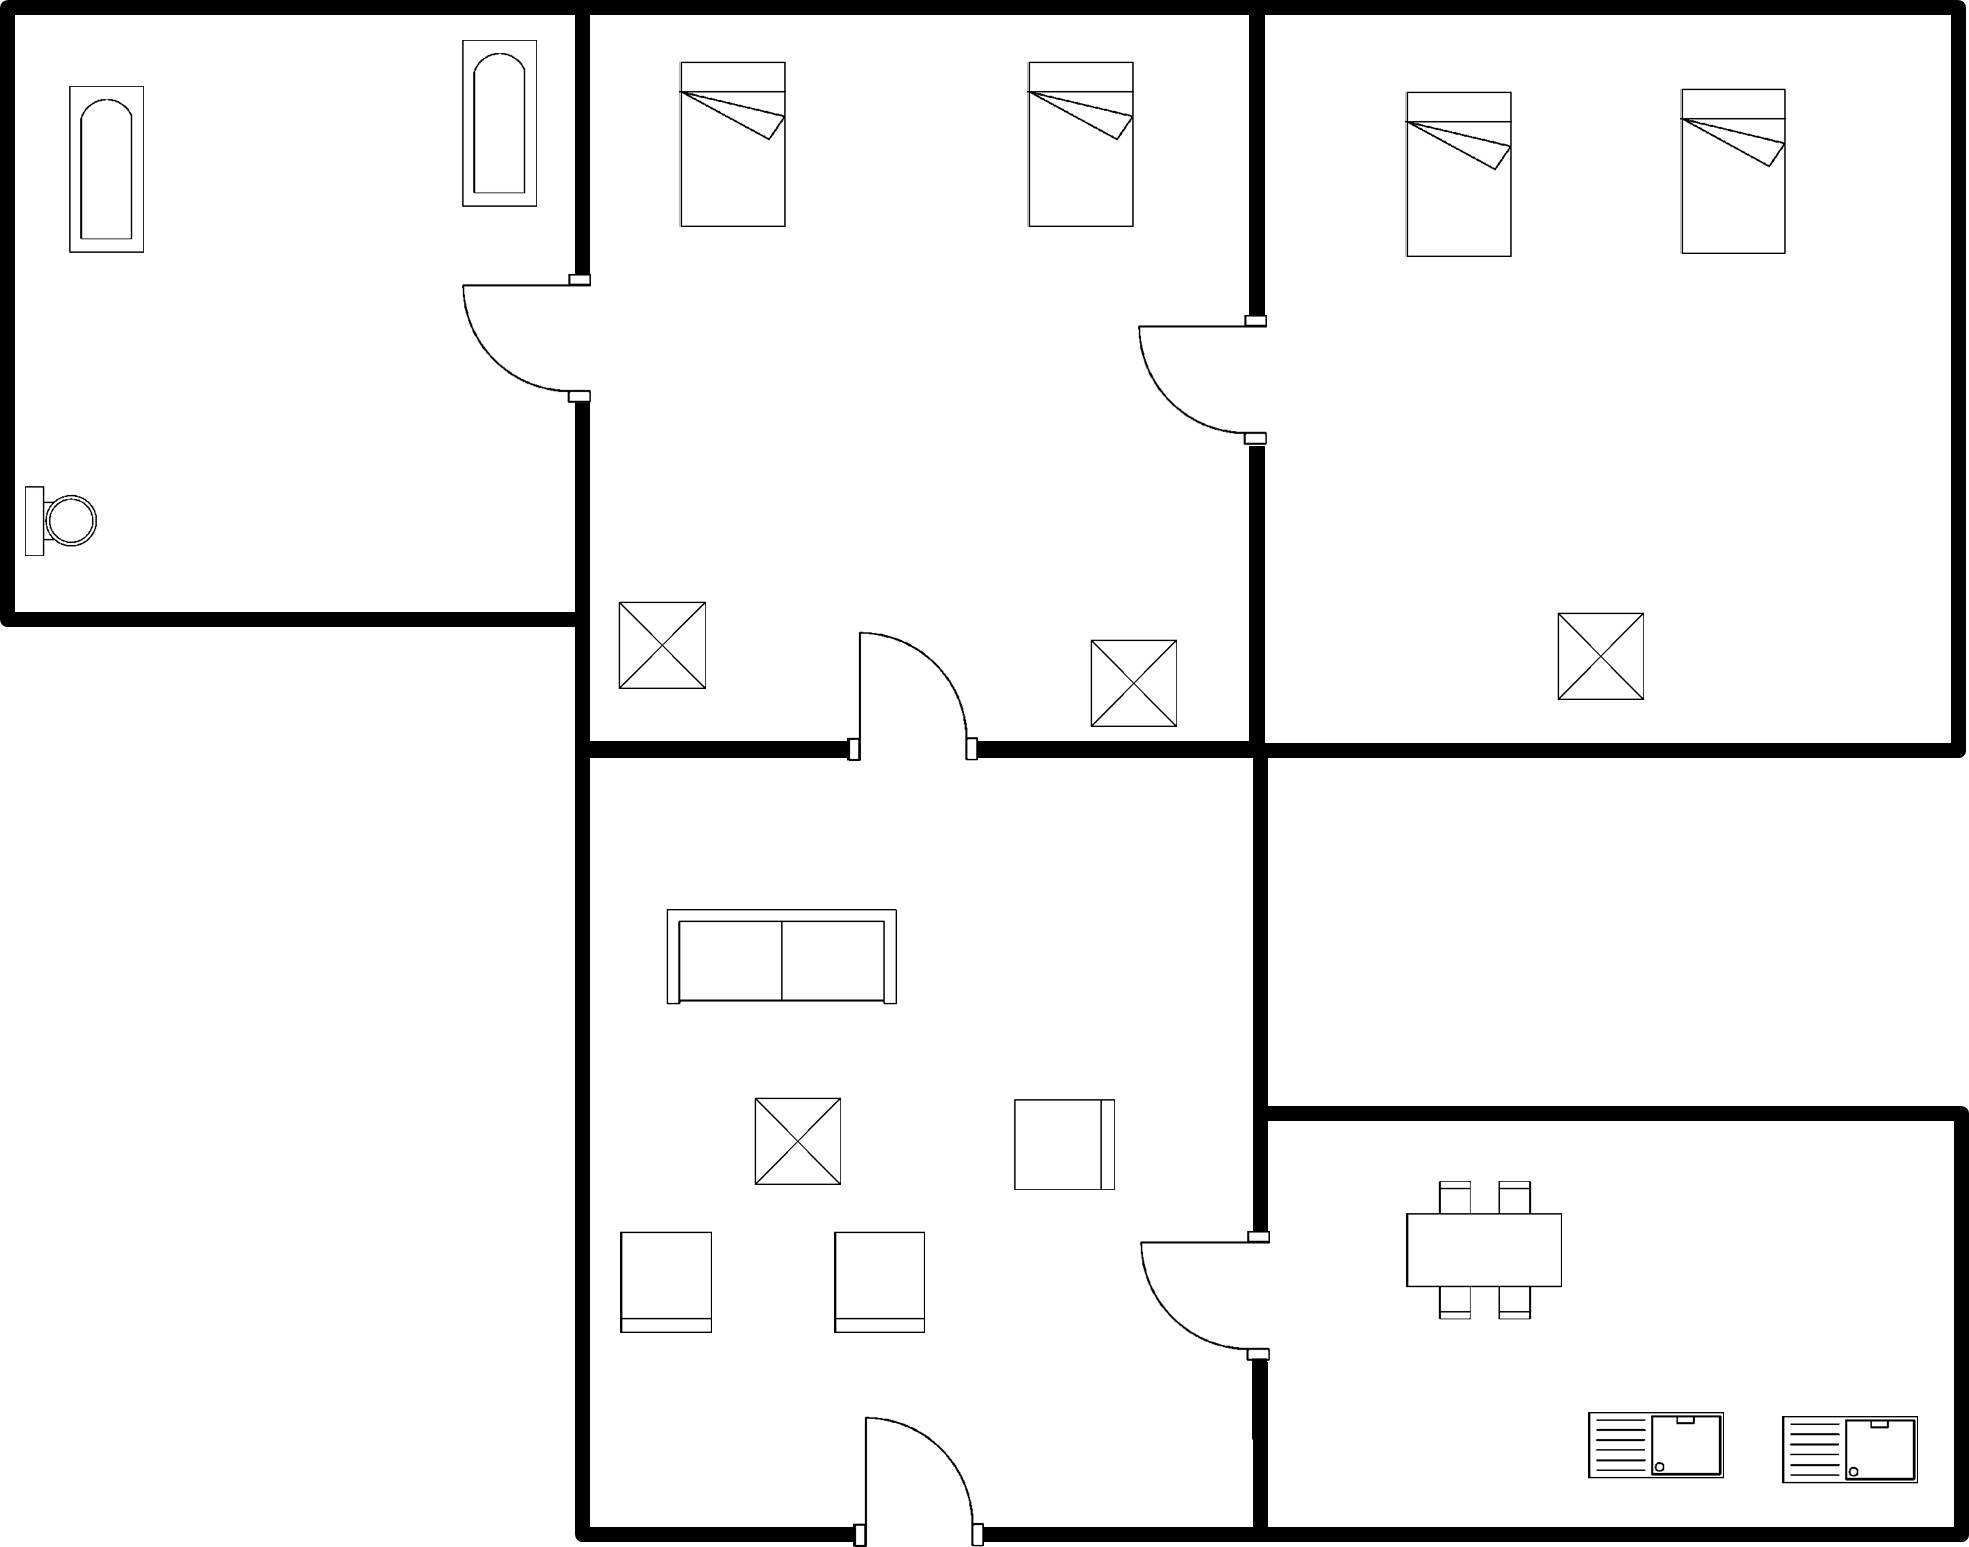bed: (667, 50, 802, 243), (1666, 77, 1800, 268), (1016, 50, 1149, 243), (1397, 79, 1525, 268)
coffee_table: (606, 589, 719, 703), (740, 1086, 853, 1199), (1543, 600, 1658, 708), (1078, 627, 1185, 736)
dining_table: (1393, 1168, 1579, 1332)
large_sink: (17, 476, 102, 567)
large_sofa: (652, 894, 909, 1018)
sink: (1576, 1400, 1737, 1496), (1772, 1403, 1926, 1491)
small_sofa: (609, 1220, 723, 1355), (1003, 1083, 1128, 1205), (825, 1224, 941, 1344)
tub: (56, 74, 158, 273), (452, 32, 552, 218)
